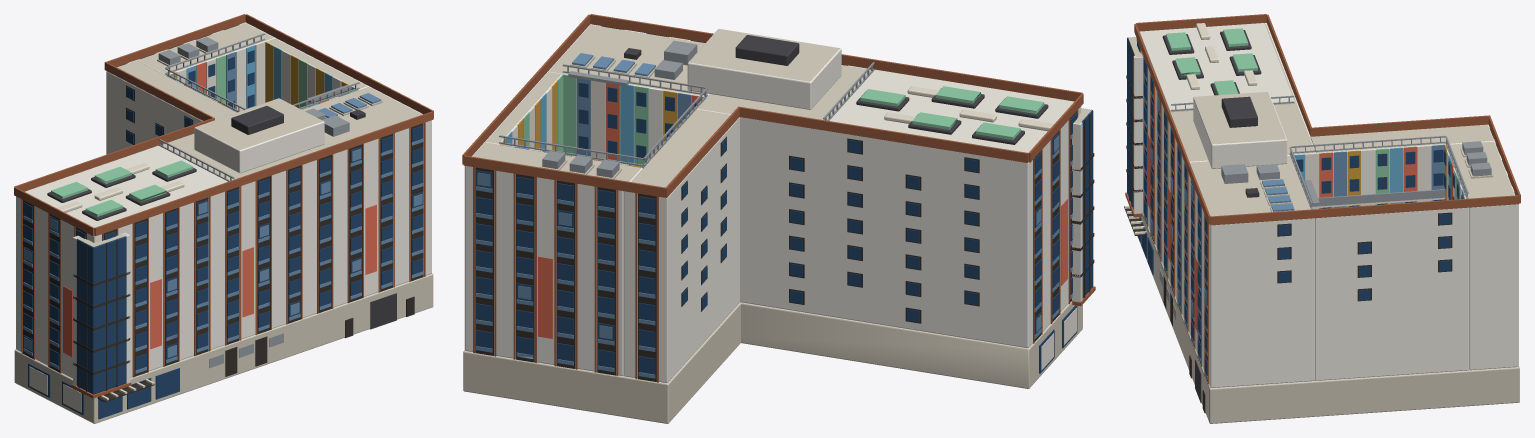
File: 234-van-ness.optimized.glb
The picture shows the model from 3 angles, left to right: view 1: azimuth 30°, elevation 25°; view 2: azimuth 150°, elevation 25°; view 3: azimuth 270°, elevation 25°; orthographic projection. The views are drawn at different scales.
Parts seen in each view (by area): view 1: grp_Toy_stone_Toy_white, grp_Toy_rust, grp_Toy_glass, grp_Toy_ink, grp_Toy_stone, corner_bay, grp_Toy_trim, grp_Toy_glassl, grp_Toy_steel, grp_Toy_coral, grp_Toy_roofd, grp_Toy_mint (+7 smaller); view 2: grp_Toy_stone_Toy_white, grp_Toy_stone, grp_Toy_rust, grp_Toy_glass, grp_Toy_ink, grp_Toy_trim, grp_Toy_glassl, grp_Toy_mint, grp_Toy_steel, grp_Toy_roofd, grp_Toy_white, grp_Toy_coral (+7 smaller); view 3: grp_Toy_stone_Toy_white, grp_Toy_stone, grp_Toy_rust, grp_Toy_glass, grp_Toy_trim, grp_Toy_steel, grp_Toy_ink, grp_Toy_glassl, grp_Toy_white, grp_Toy_mint, grp_Toy_roofd, grp_Toy_coral (+6 smaller).
Part boxes in pixels (<box>): grp_Toy_stone_Toy_white: <box>16,23,431,378</box>; grp_Toy_rust: <box>14,14,433,398</box>; grp_Toy_glass: <box>23,50,423,419</box>; grp_Toy_ink: <box>23,25,423,402</box>; grp_Toy_stone: <box>14,46,433,423</box>; corner_bay: <box>75,233,127,394</box>; grp_Toy_trim: <box>25,145,227,227</box>; grp_Toy_glassl: <box>23,52,423,373</box>; grp_Toy_steel: <box>158,33,359,368</box>; grp_Toy_coral: <box>63,62,376,357</box>; grp_Toy_roofd: <box>47,106,396,329</box>; grp_Toy_mint: <box>51,55,358,216</box>; grp_Toy_stone_Toy_white: <box>464,25,1081,382</box>; grp_Toy_stone: <box>463,56,1082,423</box>; grp_Toy_rust: <box>462,14,1095,382</box>; grp_Toy_glass: <box>476,82,1077,374</box>; grp_Toy_ink: <box>475,26,1094,381</box>; grp_Toy_trim: <box>829,69,1074,152</box>; grp_Toy_glassl: <box>476,53,1072,378</box>; grp_Toy_mint: <box>523,74,1044,166</box>; grp_Toy_steel: <box>499,40,874,177</box>; grp_Toy_roofd: <box>624,35,1048,144</box>; grp_Toy_white: <box>511,87,1082,302</box>; grp_Toy_coral: <box>538,83,1067,338</box>; grp_Toy_stone_Toy_white: <box>1136,23,1518,387</box>; grp_Toy_stone: <box>1137,148,1519,423</box>; grp_Toy_rust: <box>1125,14,1520,384</box>; grp_Toy_glass: <box>1137,40,1463,375</box>; grp_Toy_trim: <box>1139,23,1294,112</box>; grp_Toy_steel: <box>1159,95,1491,320</box>; grp_Toy_ink: <box>1124,44,1515,413</box>; grp_Toy_glassl: <box>1144,73,1460,379</box>; grp_Toy_white: <box>1133,55,1462,213</box>; grp_Toy_mint: <box>1166,28,1458,204</box>; grp_Toy_roofd: <box>1162,30,1261,402</box>; grp_Toy_coral: <box>1148,134,1453,332</box>.
Bounding box in the file's own units: 56.28 × 30.12 × 46.43.
